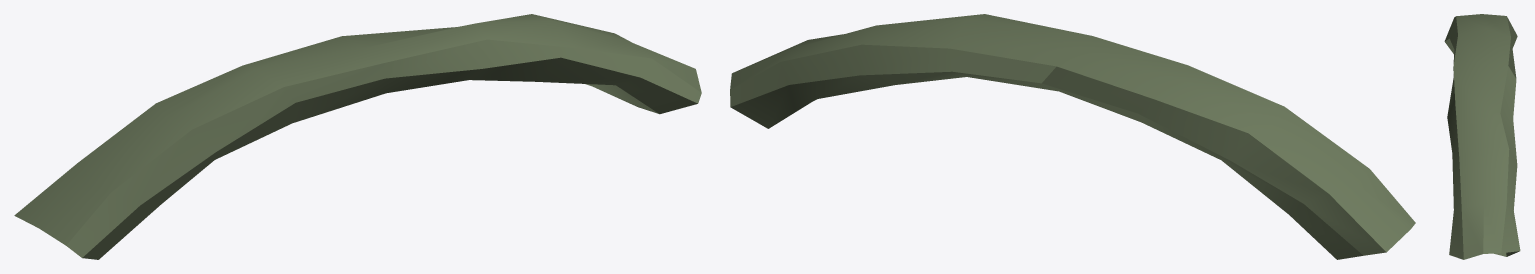
File: arch_02.glb
The picture shows the model from 3 angles, left to right: view 1: azimuth 30°, elevation 25°; view 2: azimuth 150°, elevation 25°; view 3: azimuth 270°, elevation 25°; orthographic projection. The views are drawn at different scales.
Visible parts, largest first — view 1: arch_02; view 2: arch_02; view 3: arch_02.
Part boxes in pixels (x1,y1,x2,y2): arch_02: (14,14,701,259); arch_02: (730,14,1415,259); arch_02: (1444,14,1520,259).
Size of the model in its own units: 9.43 by 1.83 by 1.33.
